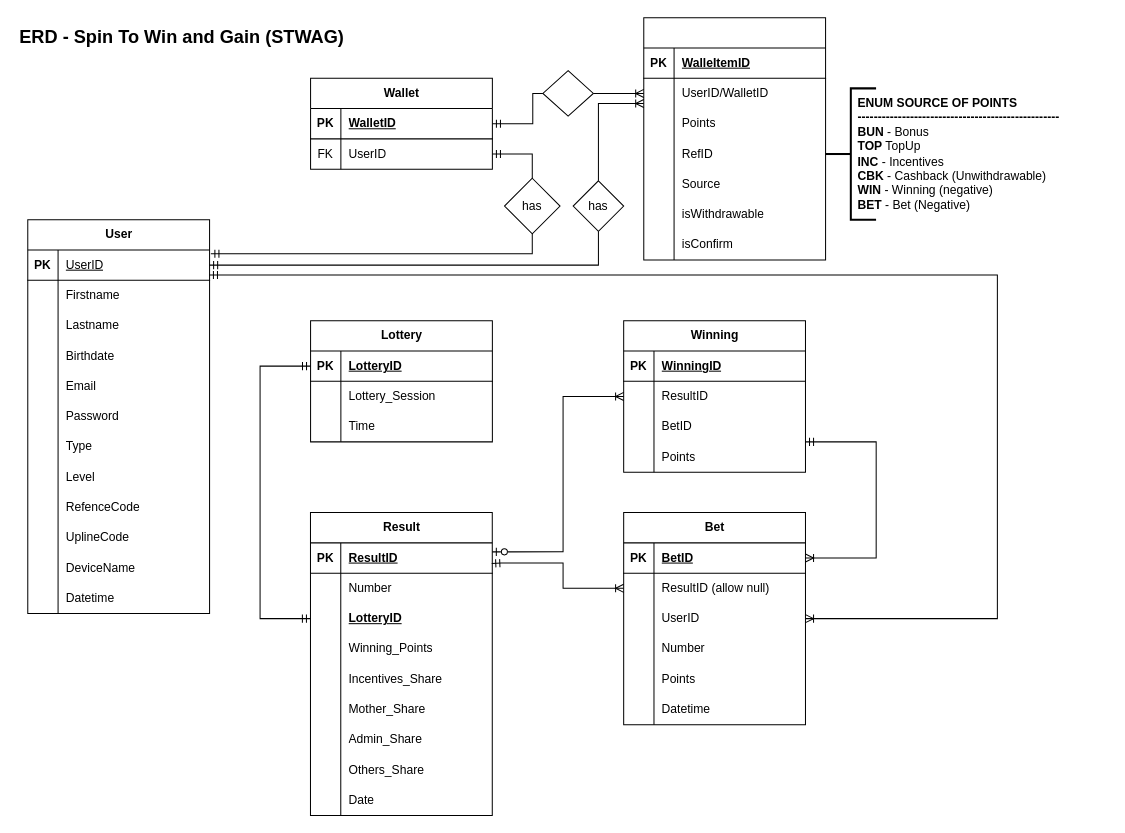
Some shapes in this 1125 by 833 pixel diagram are drawn without their labels. Each missing label, with the box of its shape:
consist: (542, 70, 593, 116)
WalletItem: (643, 17, 826, 260)
